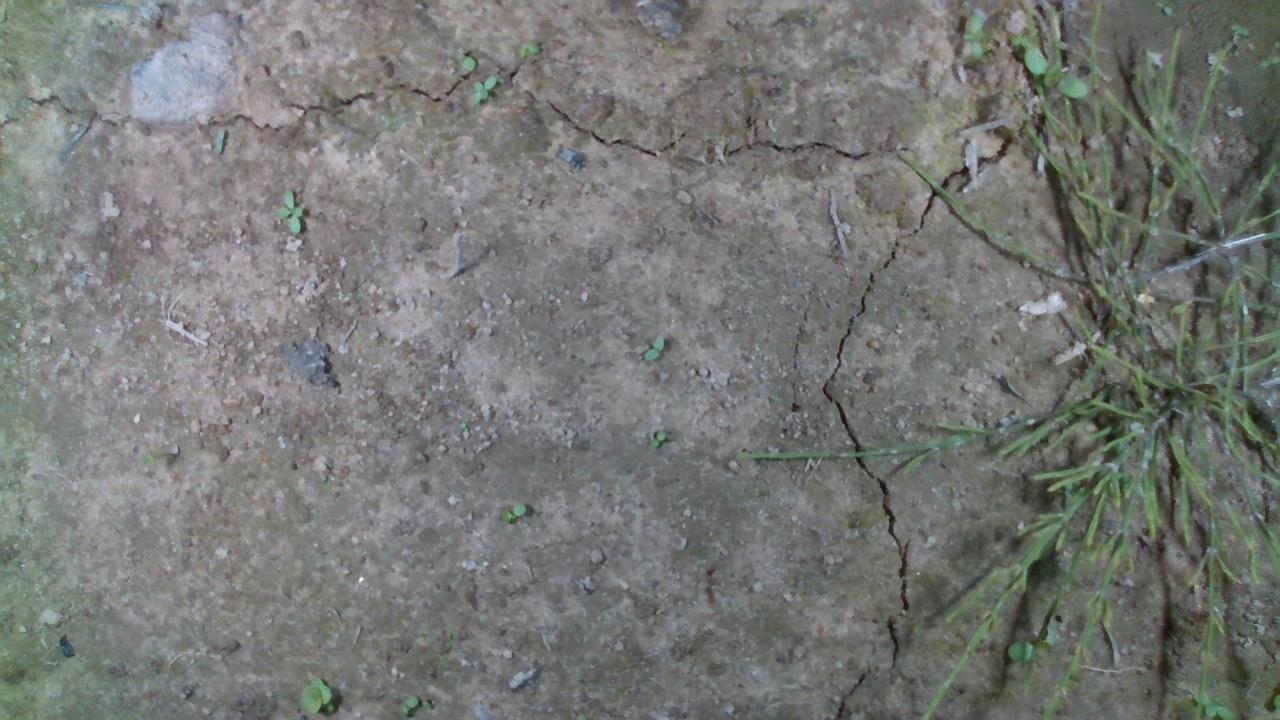weed: (273, 188, 304, 234), (467, 75, 496, 107), (642, 332, 664, 362), (500, 500, 526, 524), (395, 693, 420, 717), (212, 125, 227, 156), (648, 429, 668, 451), (1152, 0, 1172, 16)
